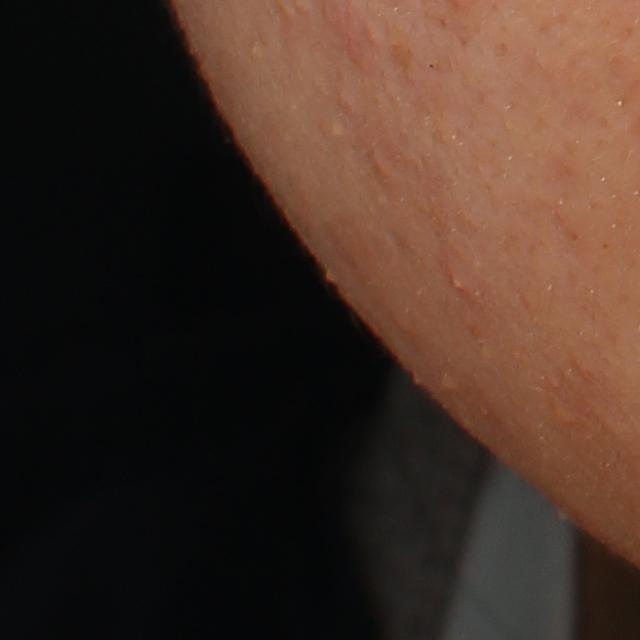comedo: (328, 116, 355, 141)
